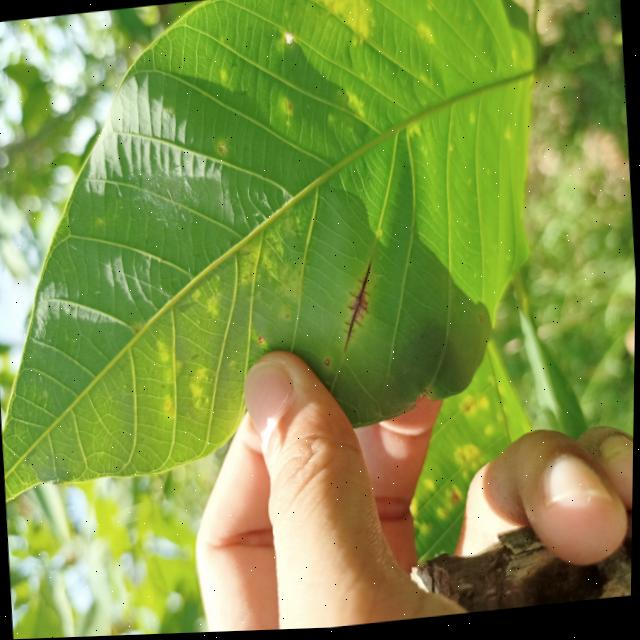Colletotrichum: (258, 337, 265, 345), (325, 361, 330, 368)
Corynespora: (337, 265, 376, 354)
